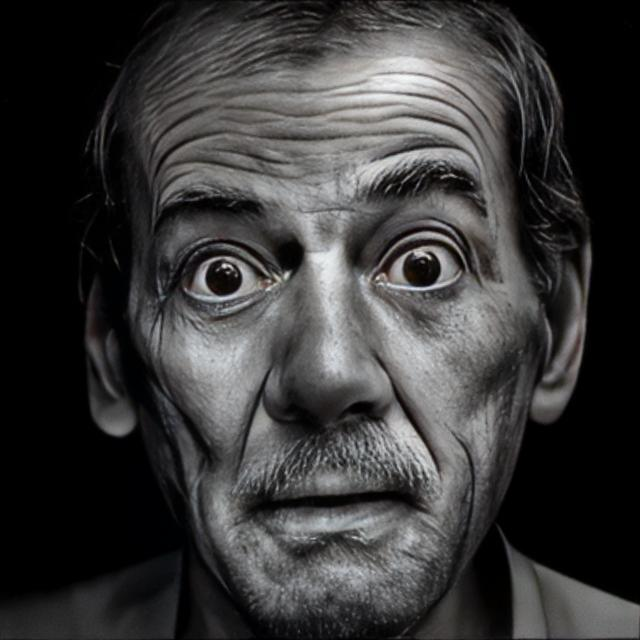fear: (115, 48, 552, 634)
